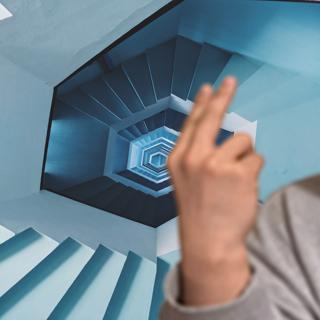DHAVE: (161, 71, 268, 256)
